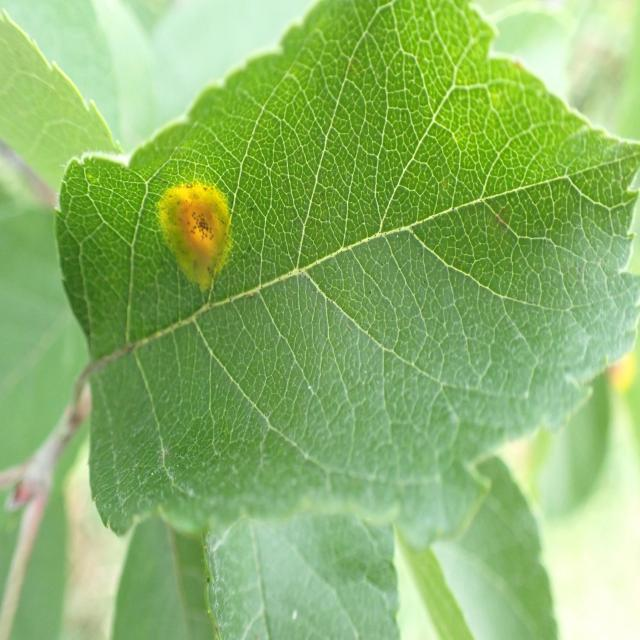Rust: (149, 163, 247, 305)
